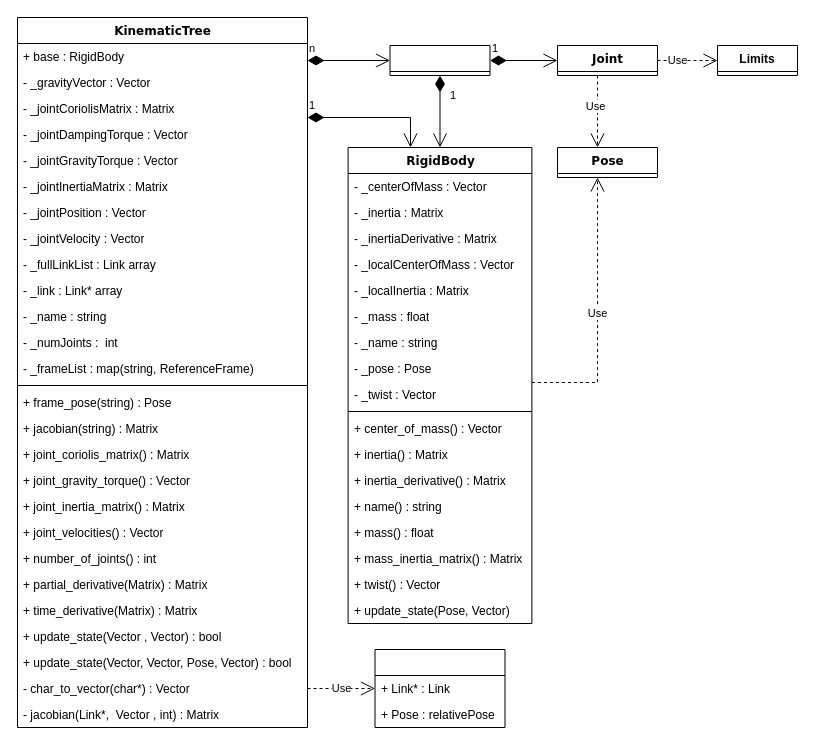
The diagram is 815 pixels wide and 748 high, and some of its shapes have lost their labels. The shapes that lost their labels are listed below. From the top down, each one's box as (x1, y1, x2, y2) in pixels, then its label:
(389, 44, 490, 76): Link
(374, 648, 505, 728): ReferenceFrame
